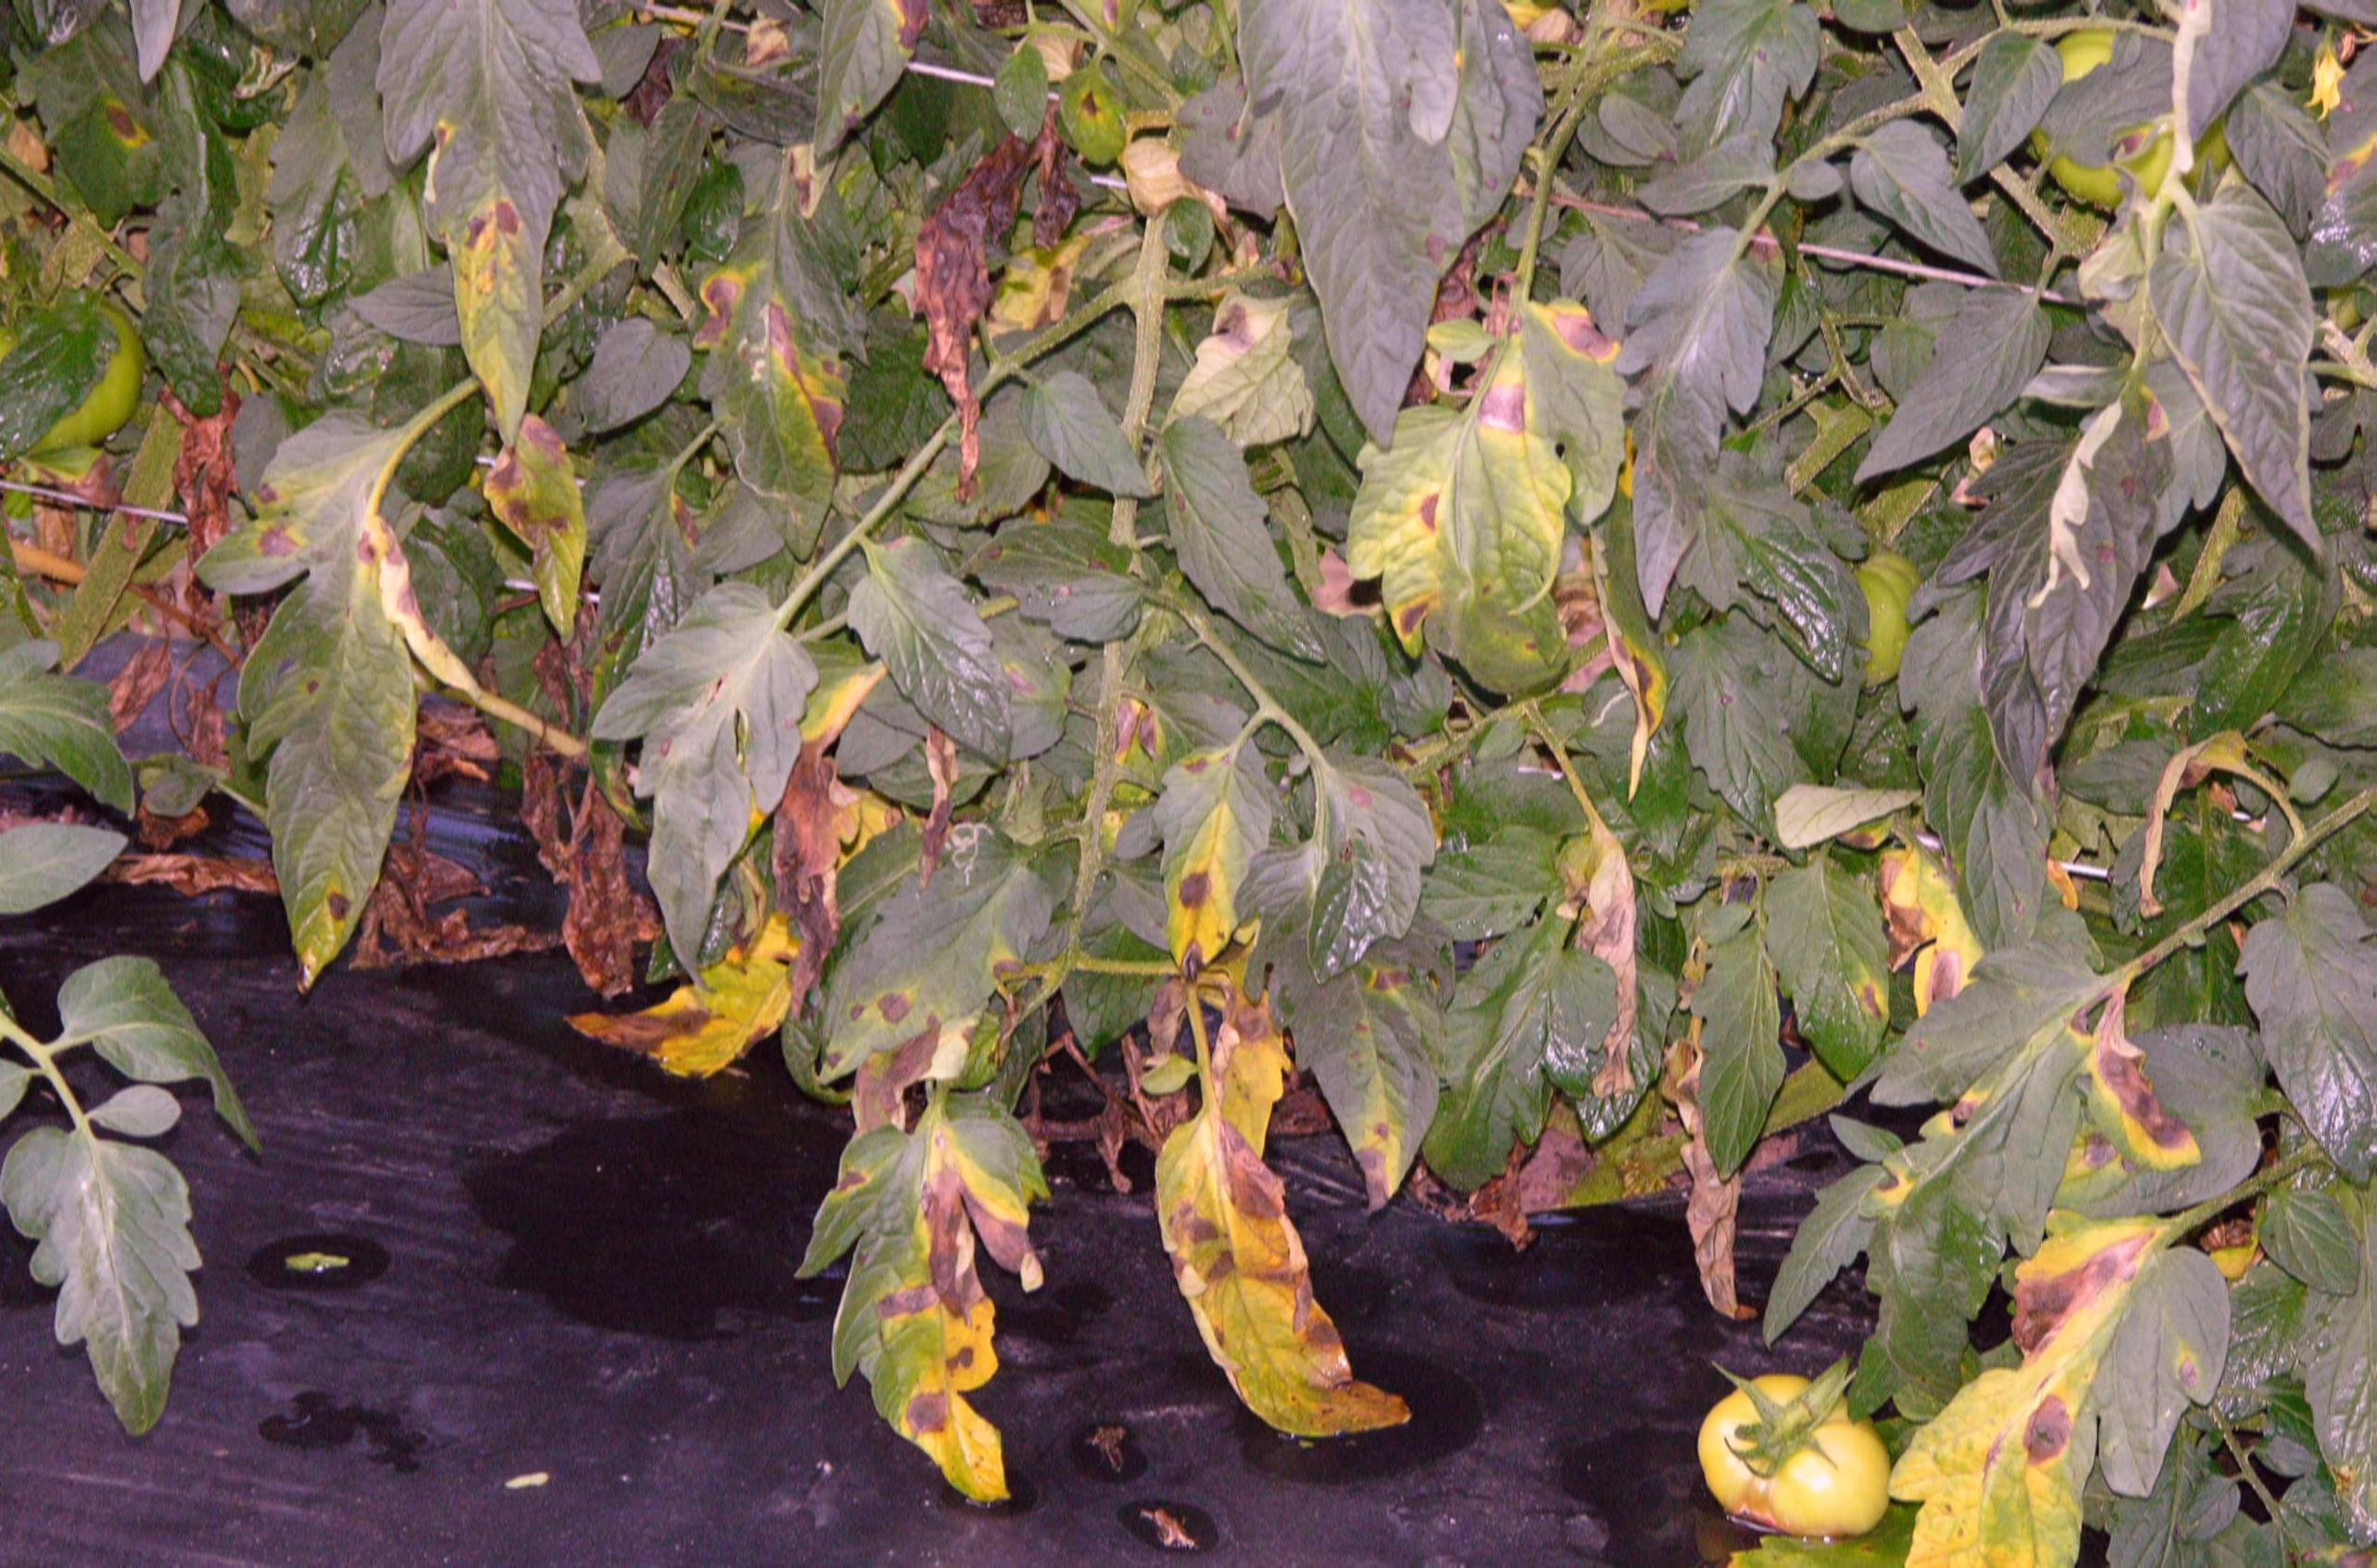Tomato Early blight leaf: (210, 360, 443, 997), (1125, 1060, 1415, 1536), (1924, 1186, 2244, 1568), (366, 0, 640, 436), (831, 1099, 1058, 1536), (707, 154, 883, 560), (1345, 418, 1590, 677), (1744, 849, 1915, 1125), (974, 0, 1195, 150), (1165, 716, 1282, 982), (469, 409, 605, 623)
Tomato leaf: (3, 1113, 229, 1433), (2165, 186, 2323, 541), (1139, 422, 1333, 674), (1627, 235, 1744, 639), (845, 528, 1025, 779), (2241, 885, 2377, 1192), (1859, 294, 2031, 479), (1842, 135, 2020, 287)
